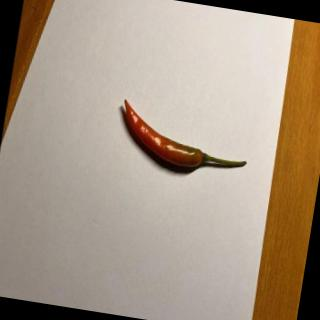Cabai Merah: (116, 100, 255, 178)
